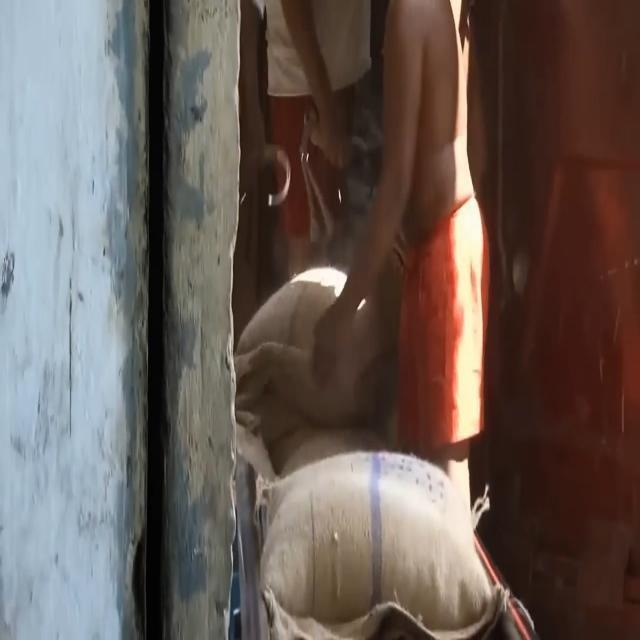gunny_bag: (257, 447, 498, 640), (238, 228, 383, 433)
